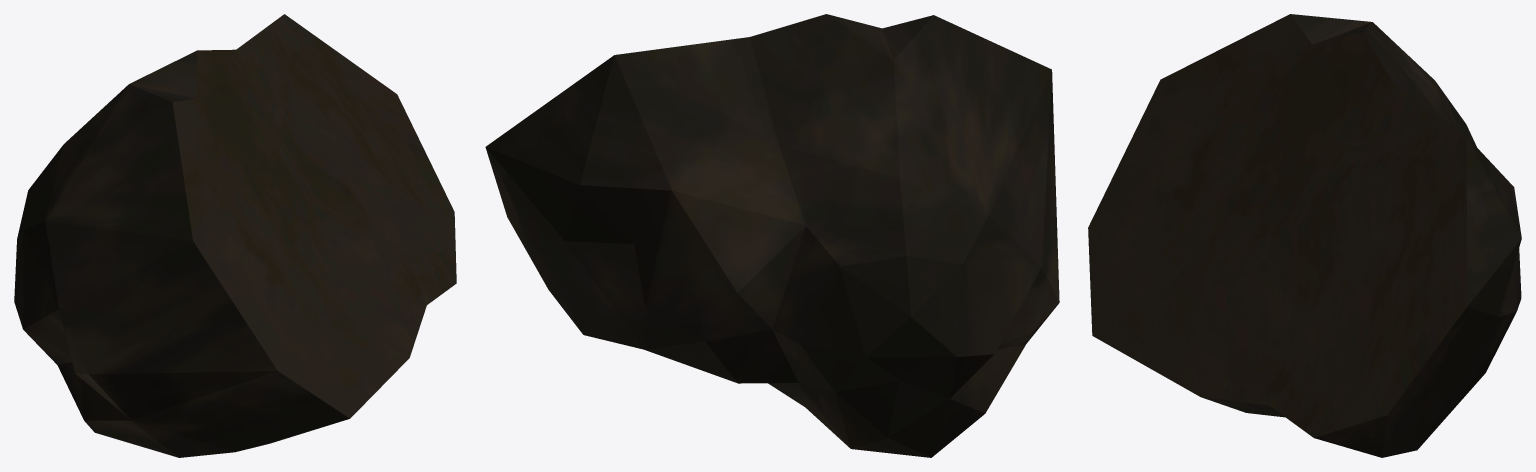
File: fortress_rock_03.fbx
3 views of the same model, side by side, from view 1: azimuth 30°, elevation 25°; view 2: azimuth 150°, elevation 25°; view 3: azimuth 270°, elevation 25° (orthographic). The views are drawn at different scales.
Parts seen in each view (by area): view 1: fortress_rock_03-0; view 2: fortress_rock_03-0; view 3: fortress_rock_03-0.
Boxes of the visible parts, bbox=[...] form: fortress_rock_03-0: bbox=[14, 14, 456, 457]; fortress_rock_03-0: bbox=[485, 14, 1059, 457]; fortress_rock_03-0: bbox=[1088, 14, 1521, 457].
Bounding box in the file's own units: 1.2 × 0.9616 × 0.9979.
